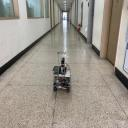cart: (52, 66, 71, 93)
